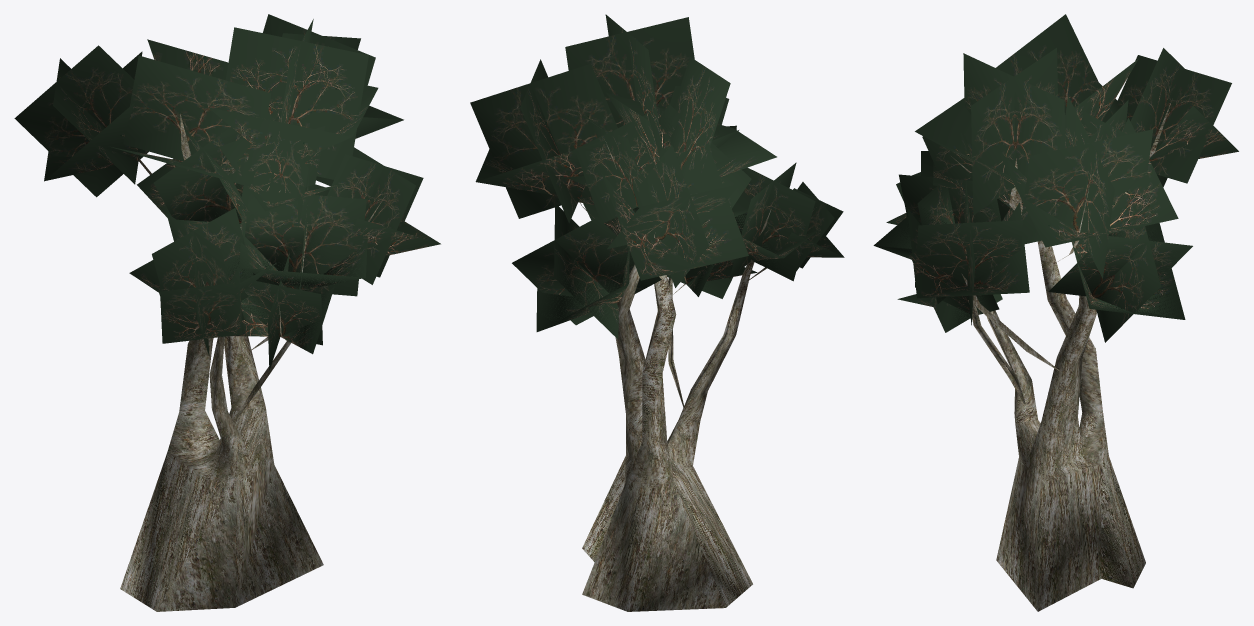
The model's file is decd_hollytreebranches_a1_l1.fbx.
The picture shows the model from 3 angles, left to right: view 1: azimuth 30°, elevation 25°; view 2: azimuth 150°, elevation 25°; view 3: azimuth 270°, elevation 25°; orthographic projection. The views are drawn at different scales.
Parts seen in each view (by area): view 1: mesh_node; view 2: mesh_node; view 3: mesh_node.
Part boxes in pixels (bbox=[...]): mesh_node: bbox=[14, 14, 440, 611]; mesh_node: bbox=[470, 14, 844, 611]; mesh_node: bbox=[873, 14, 1238, 611].
Bounding box in the file's own units: 10.29 × 17.32 × 10.91.
